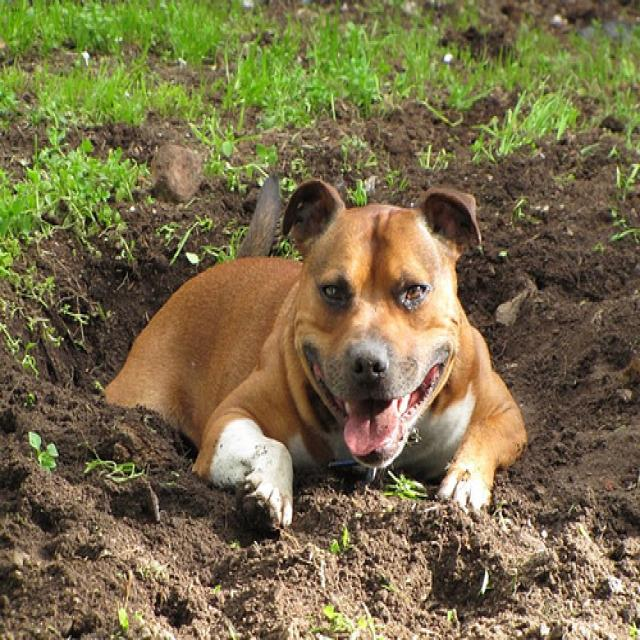dog-staffordshire_bull_terrier: (93, 166, 536, 543)
